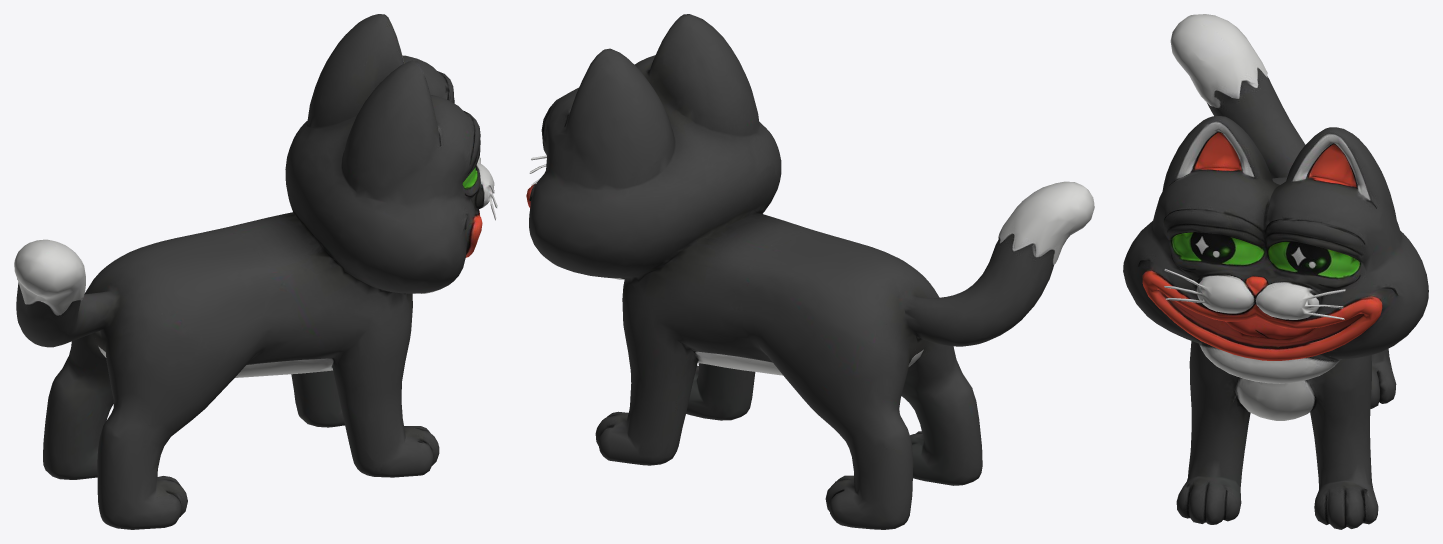
File: pepecat-2.glb
The picture shows the model from 3 angles, left to right: view 1: azimuth 30°, elevation 25°; view 2: azimuth 150°, elevation 25°; view 3: azimuth 270°, elevation 25°; orthographic projection. The views are drawn at different scales.
Parts seen in each view (by area): view 1: tripo_node_d5c3eade-1b65-4d4f-b99b-f82ea15f483a; view 2: tripo_node_d5c3eade-1b65-4d4f-b99b-f82ea15f483a; view 3: tripo_node_d5c3eade-1b65-4d4f-b99b-f82ea15f483a.
Part boxes in pixels (<box>): tripo_node_d5c3eade-1b65-4d4f-b99b-f82ea15f483a: <box>14,14,497,529</box>; tripo_node_d5c3eade-1b65-4d4f-b99b-f82ea15f483a: <box>526,14,1094,529</box>; tripo_node_d5c3eade-1b65-4d4f-b99b-f82ea15f483a: <box>1123,14,1428,529</box>.
Size of the model in its own units: 1.32 by 1 by 0.6851.
Materials: 1 (1 with a texture image).
